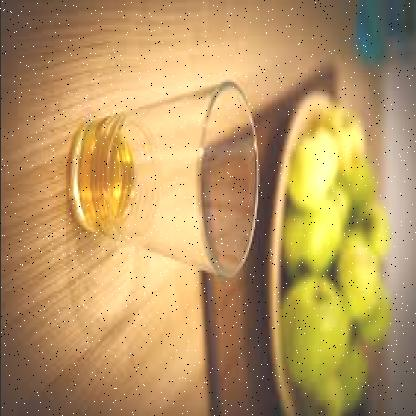apple: (289, 286, 351, 382), (288, 196, 346, 276), (334, 234, 380, 327)
